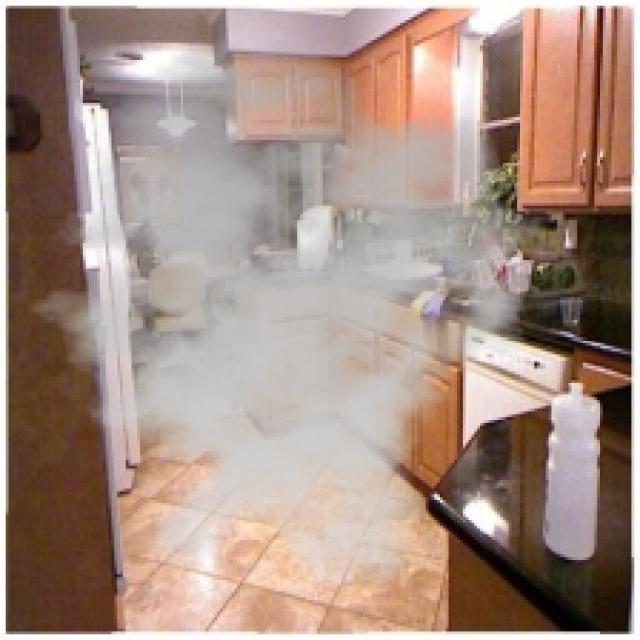smoke: (3, 37, 560, 594)
